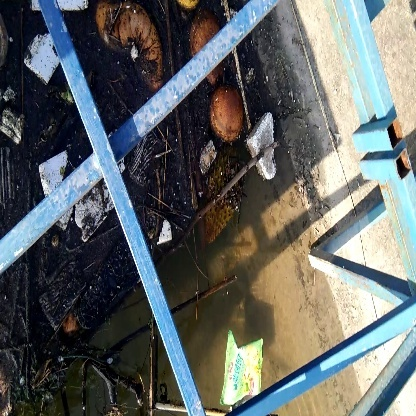ball: (203, 87, 246, 142)
plastic-bag: (217, 325, 266, 406)
